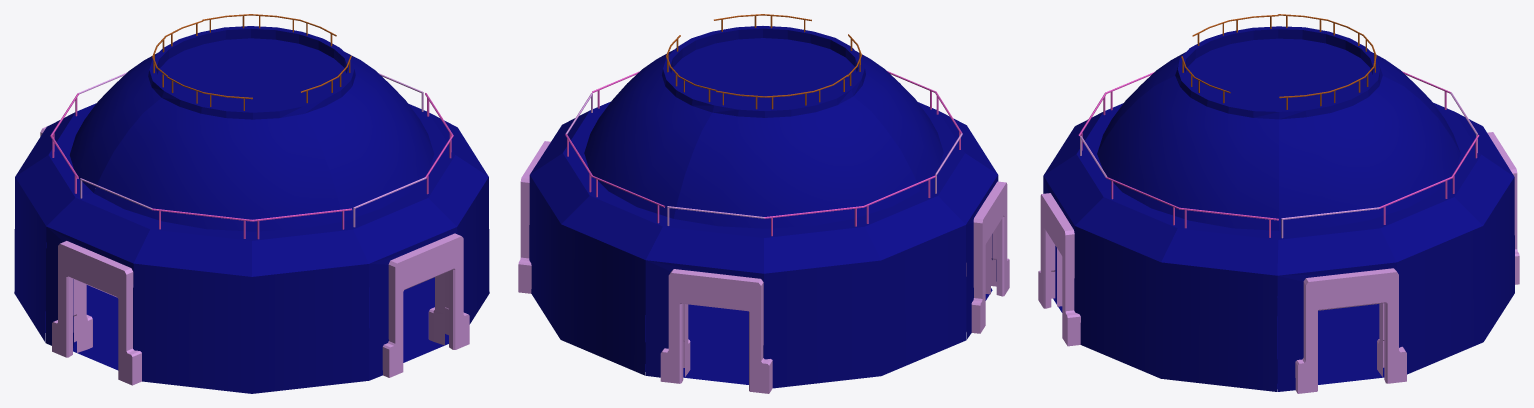
The model's file is hub_01.FBX.
3 renders of one model, left to right at view 1: azimuth 30°, elevation 25°; view 2: azimuth 150°, elevation 25°; view 3: azimuth 270°, elevation 25°, orthographic.
Visible parts, largest first — view 1: mura_002, cupola_002, mura_003, cupola_003, tetto002, mura_, door004, door003, cupola_, pavimento004, muretto_tetto001, muretto_tetto002 (+7 smaller); view 2: mura_, cupola_, mura_001, cupola_001, tetto002, porcoddio, mura_002, cupola_002, door003, pavimento001, muretto_tetto003, door002 (+6 smaller); view 3: mura_003, mura_001, cupola_001, cupola_003, tetto002, door002, pavimento002, door004, mura_, mura_002, muretto_tetto002, muretto_tetto (+7 smaller).
Boxes of the visible parts, x1=… form: mura_002: x1=46, y1=193, x2=369, y2=393; cupola_002: x1=94, y1=98, x2=342, y2=231; mura_003: x1=344, y1=112, x2=489, y2=380; cupola_003: x1=304, y1=56, x2=434, y2=220; tetto002: x1=157, y1=38, x2=346, y2=109; mura_: x1=14, y1=103, x2=96, y2=342; door004: x1=382, y1=233, x2=469, y2=377; door003: x1=52, y1=241, x2=141, y2=385; cupola_: x1=69, y1=52, x2=161, y2=192; pavimento004: x1=369, y1=277, x2=448, y2=362; muretto_tetto001: x1=201, y1=26, x2=339, y2=58; muretto_tetto002: x1=161, y1=89, x2=303, y2=119; mura_: x1=645, y1=191, x2=966, y2=388; cupola_: x1=673, y1=96, x2=920, y2=228; mura_001: x1=529, y1=110, x2=672, y2=375; cupola_001: x1=584, y1=56, x2=711, y2=218; tetto002: x1=671, y1=38, x2=856, y2=108; porcoddio: x1=660, y1=269, x2=772, y2=393; mura_002: x1=918, y1=102, x2=998, y2=339; cupola_002: x1=853, y1=51, x2=943, y2=190; door003: x1=966, y1=181, x2=1009, y2=333; pavimento001: x1=683, y1=310, x2=748, y2=384; muretto_tetto003: x1=678, y1=26, x2=813, y2=57; door002: x1=518, y1=141, x2=550, y2=293; mura_003: x1=1043, y1=154, x2=1278, y2=391; mura_001: x1=1277, y1=154, x2=1514, y2=391; cupola_001: x1=1279, y1=76, x2=1460, y2=230; cupola_003: x1=1097, y1=76, x2=1278, y2=230; tetto002: x1=1185, y1=38, x2=1372, y2=108; door002: x1=1295, y1=268, x2=1406, y2=393; pavimento002: x1=1318, y1=304, x2=1384, y2=384; door004: x1=1038, y1=193, x2=1080, y2=346; mura_: x1=1433, y1=102, x2=1513, y2=175; mura_002: x1=1044, y1=103, x2=1123, y2=174; muretto_tetto002: x1=1175, y1=26, x2=1278, y2=73; muretto_tetto: x1=1278, y1=26, x2=1381, y2=74.
Size of the model in its own units: 13.11 by 7.14 by 13.11.
